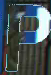Parking: (5, 2, 49, 74)
